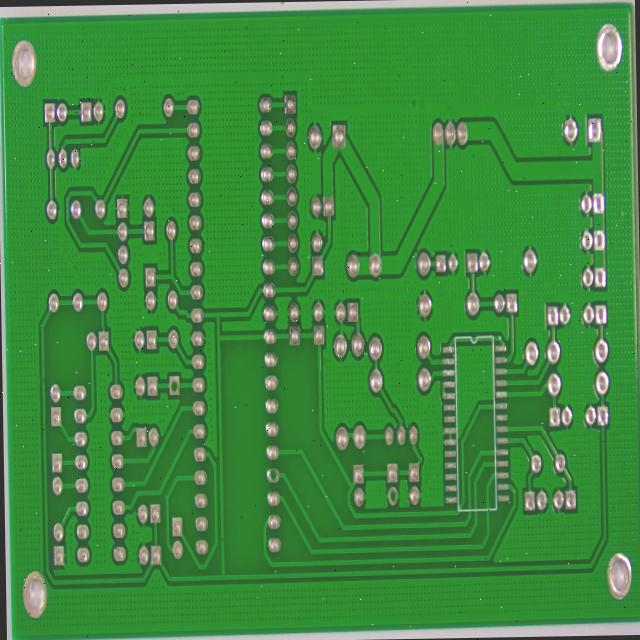missing_hole: (150, 419, 166, 450), (378, 546, 391, 571), (254, 526, 266, 549)
